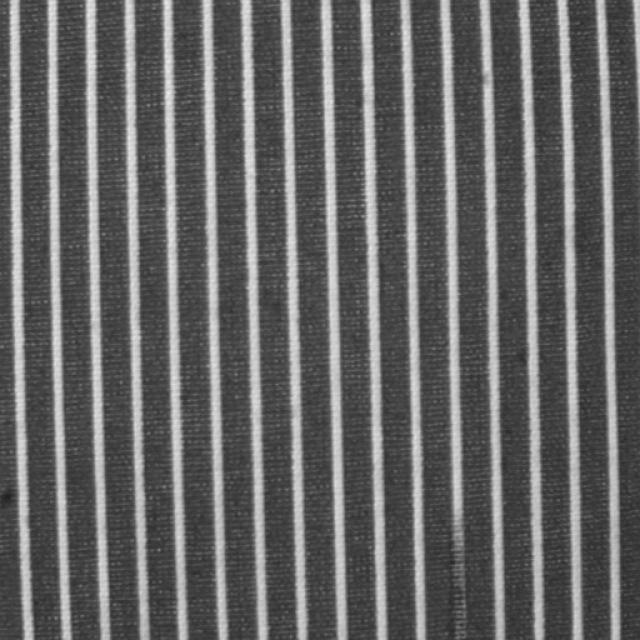Stain-Defect: (444, 531, 469, 639)
